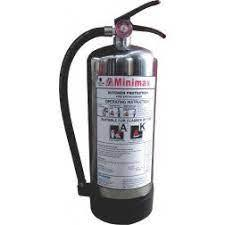Fire Extinguisher: (48, 0, 191, 224)
